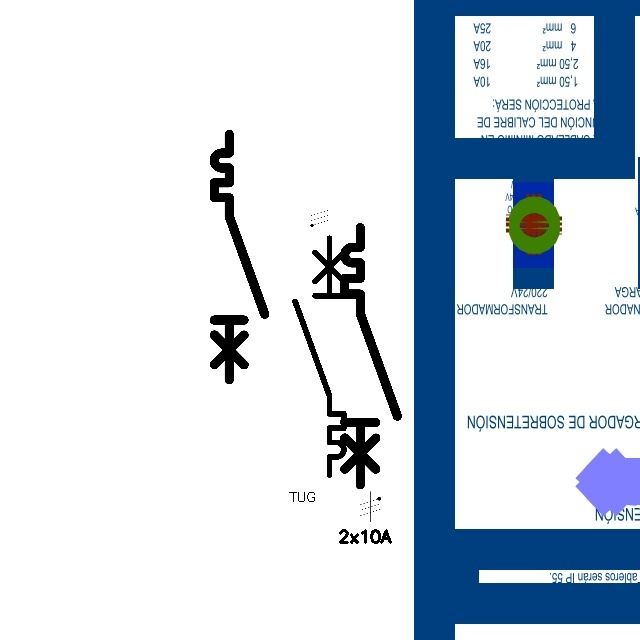interruptor_termomagnetico: (338, 221, 404, 491), (208, 128, 271, 386), (289, 232, 350, 481)
